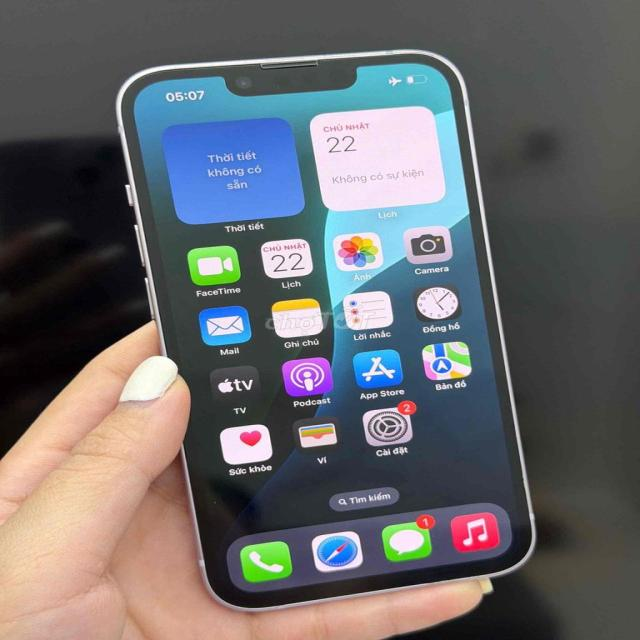gen_14: (109, 45, 548, 619)
